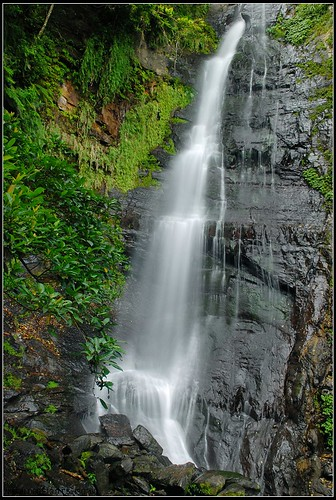wufengciWaterfall: (87, 6, 273, 473)
